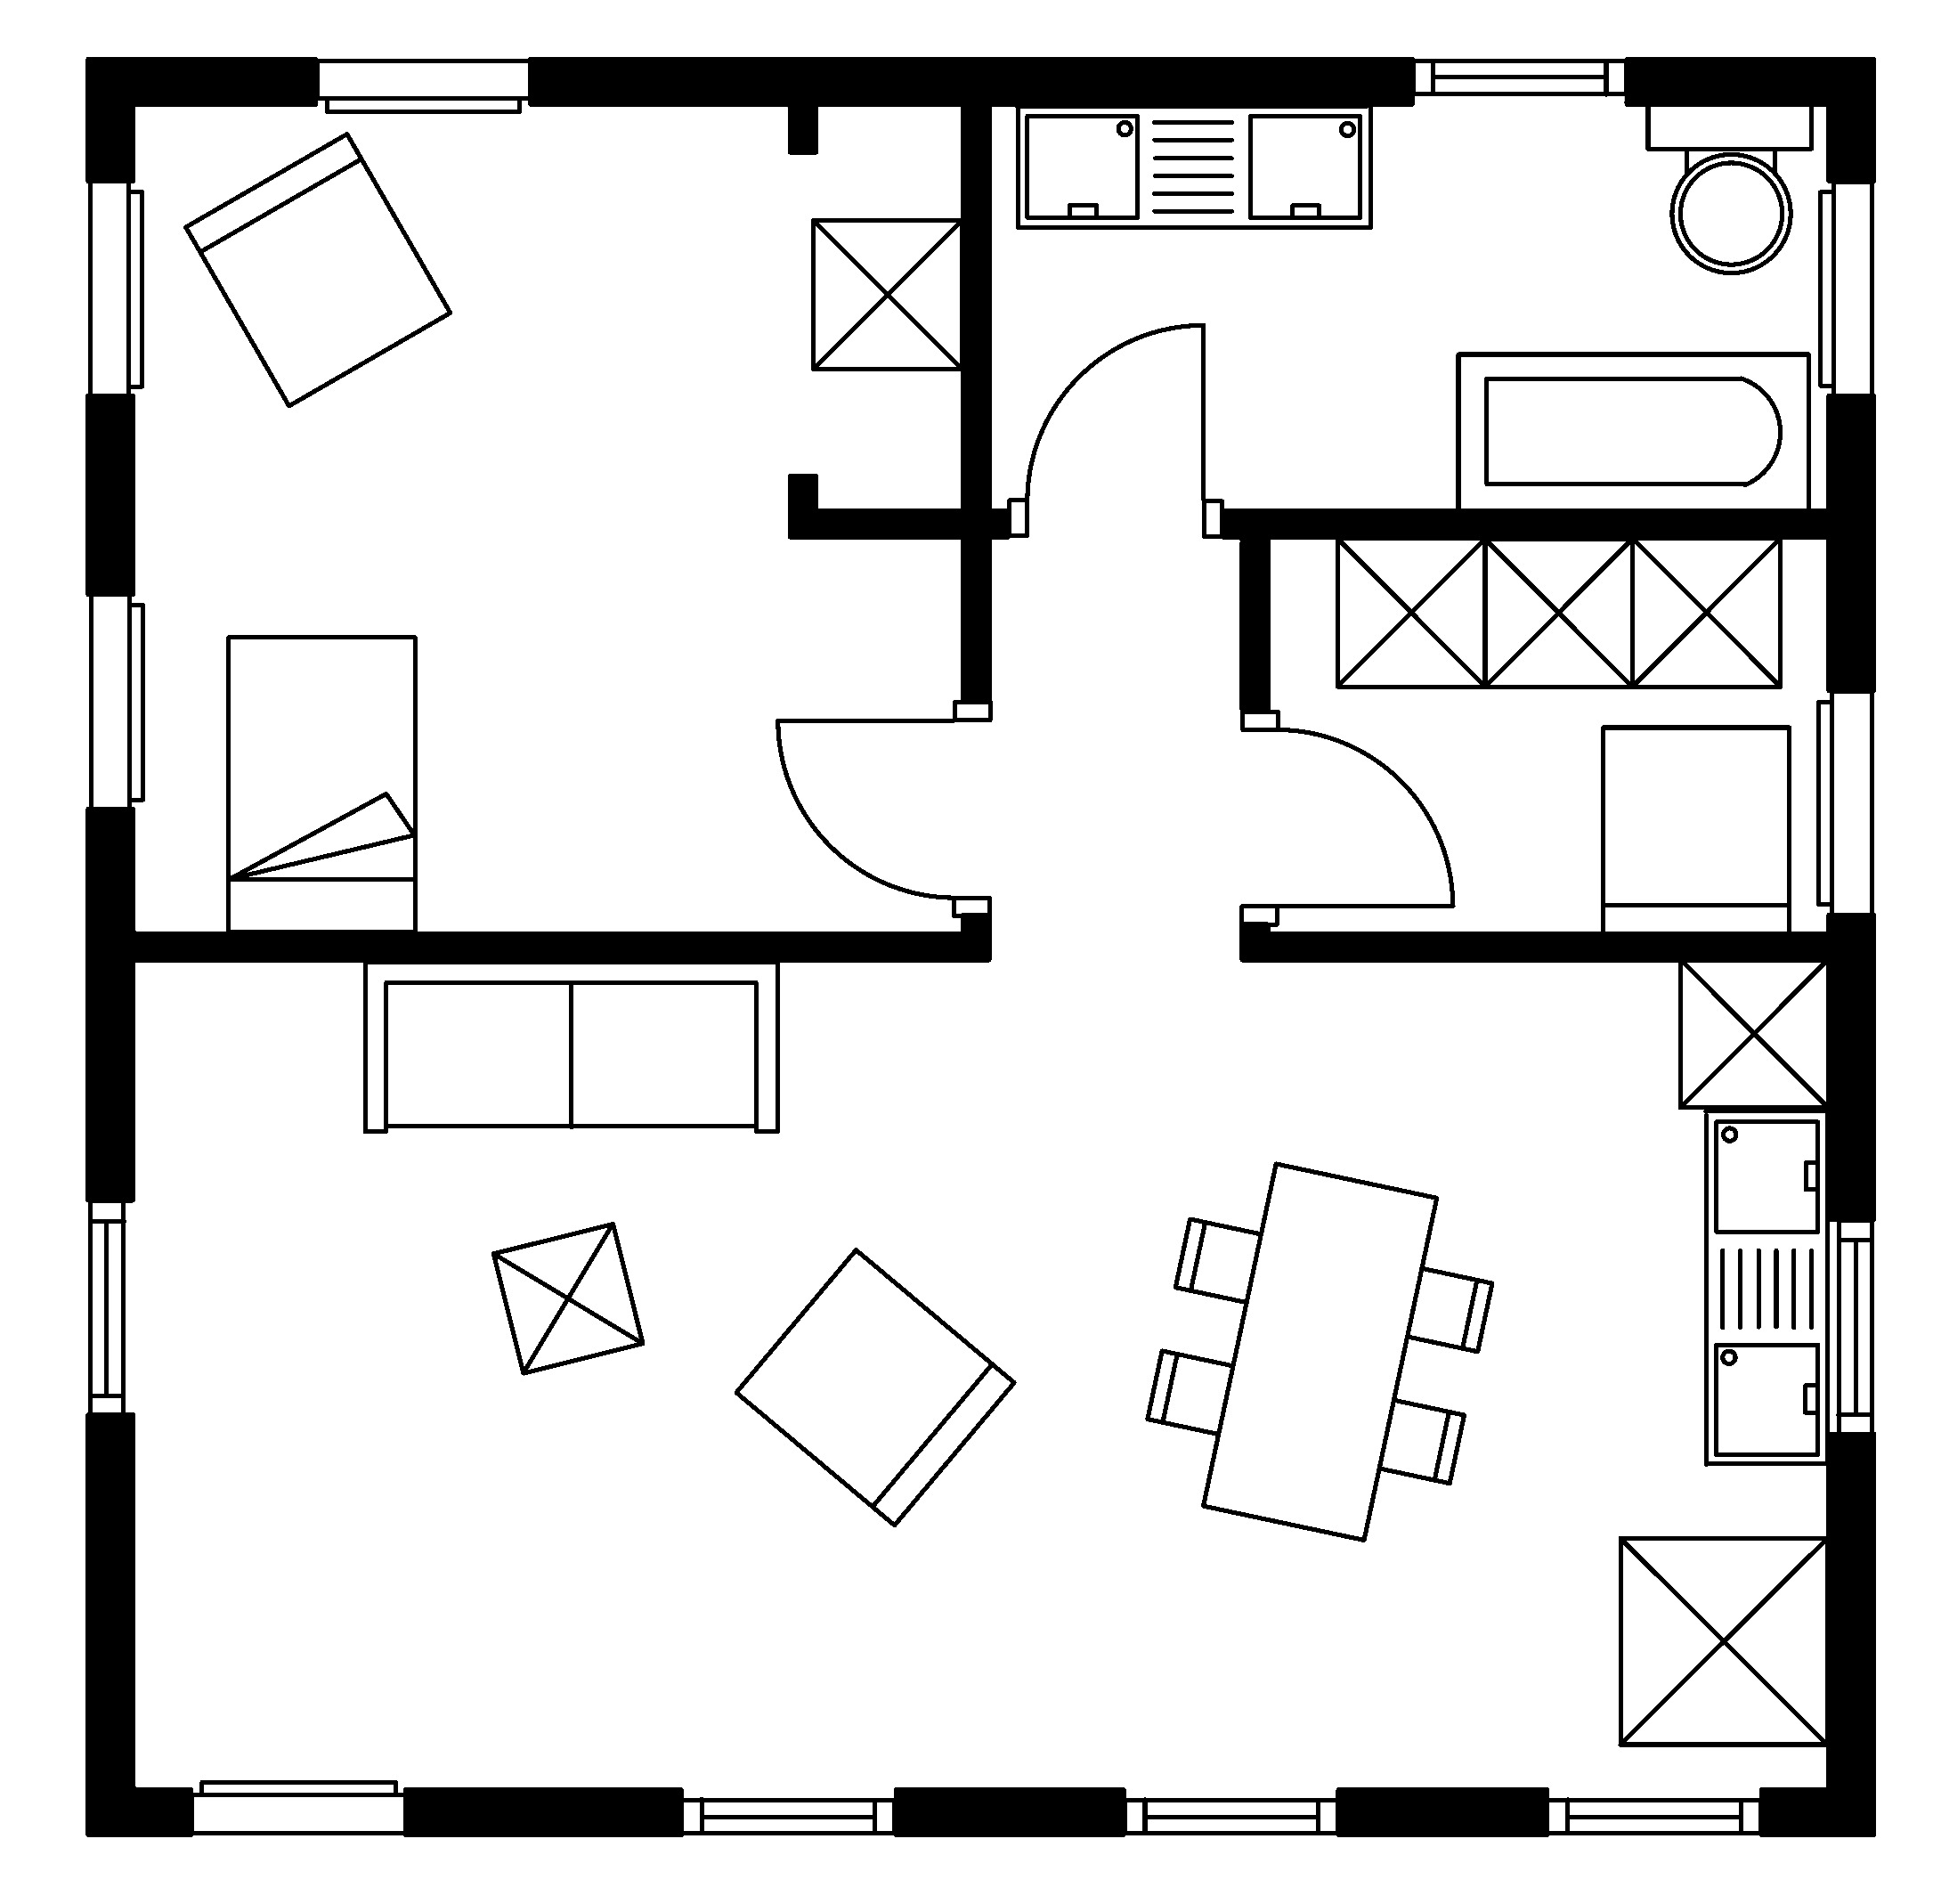basin: (1699, 1107, 1830, 1472), (1011, 106, 1379, 234)
bed: (216, 628, 427, 940)
door: (770, 697, 997, 915), (1238, 710, 1461, 928), (1009, 317, 1222, 541)
rectangleTable: (1140, 1153, 1501, 1552)
window: (1408, 54, 1628, 101), (678, 1792, 894, 1839), (85, 1196, 131, 1418), (1126, 1794, 1335, 1841), (1546, 1794, 1757, 1839), (1834, 1219, 1877, 1435)
